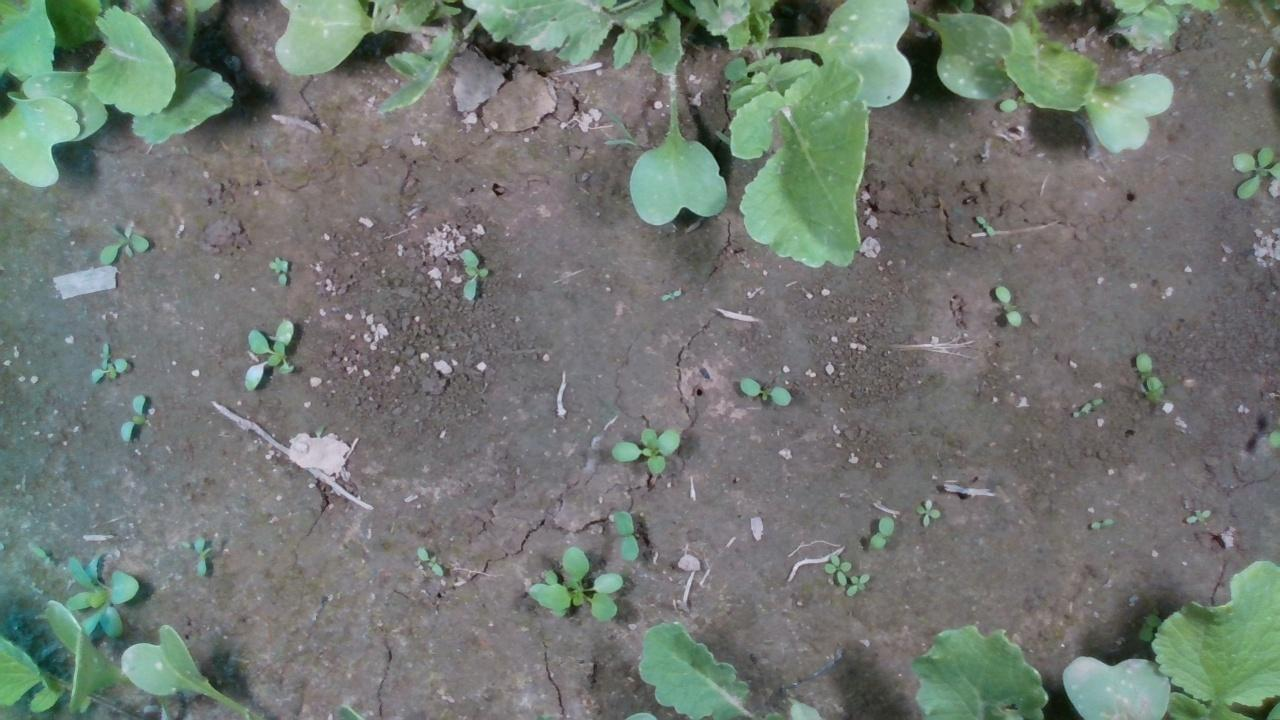weed: (609, 424, 679, 475), (97, 220, 152, 263), (737, 374, 793, 405), (116, 390, 147, 445), (610, 509, 640, 564), (991, 284, 1023, 329), (865, 514, 895, 554), (914, 496, 942, 526), (191, 533, 207, 577), (1181, 507, 1212, 525), (971, 213, 994, 237), (1085, 515, 1116, 531)
